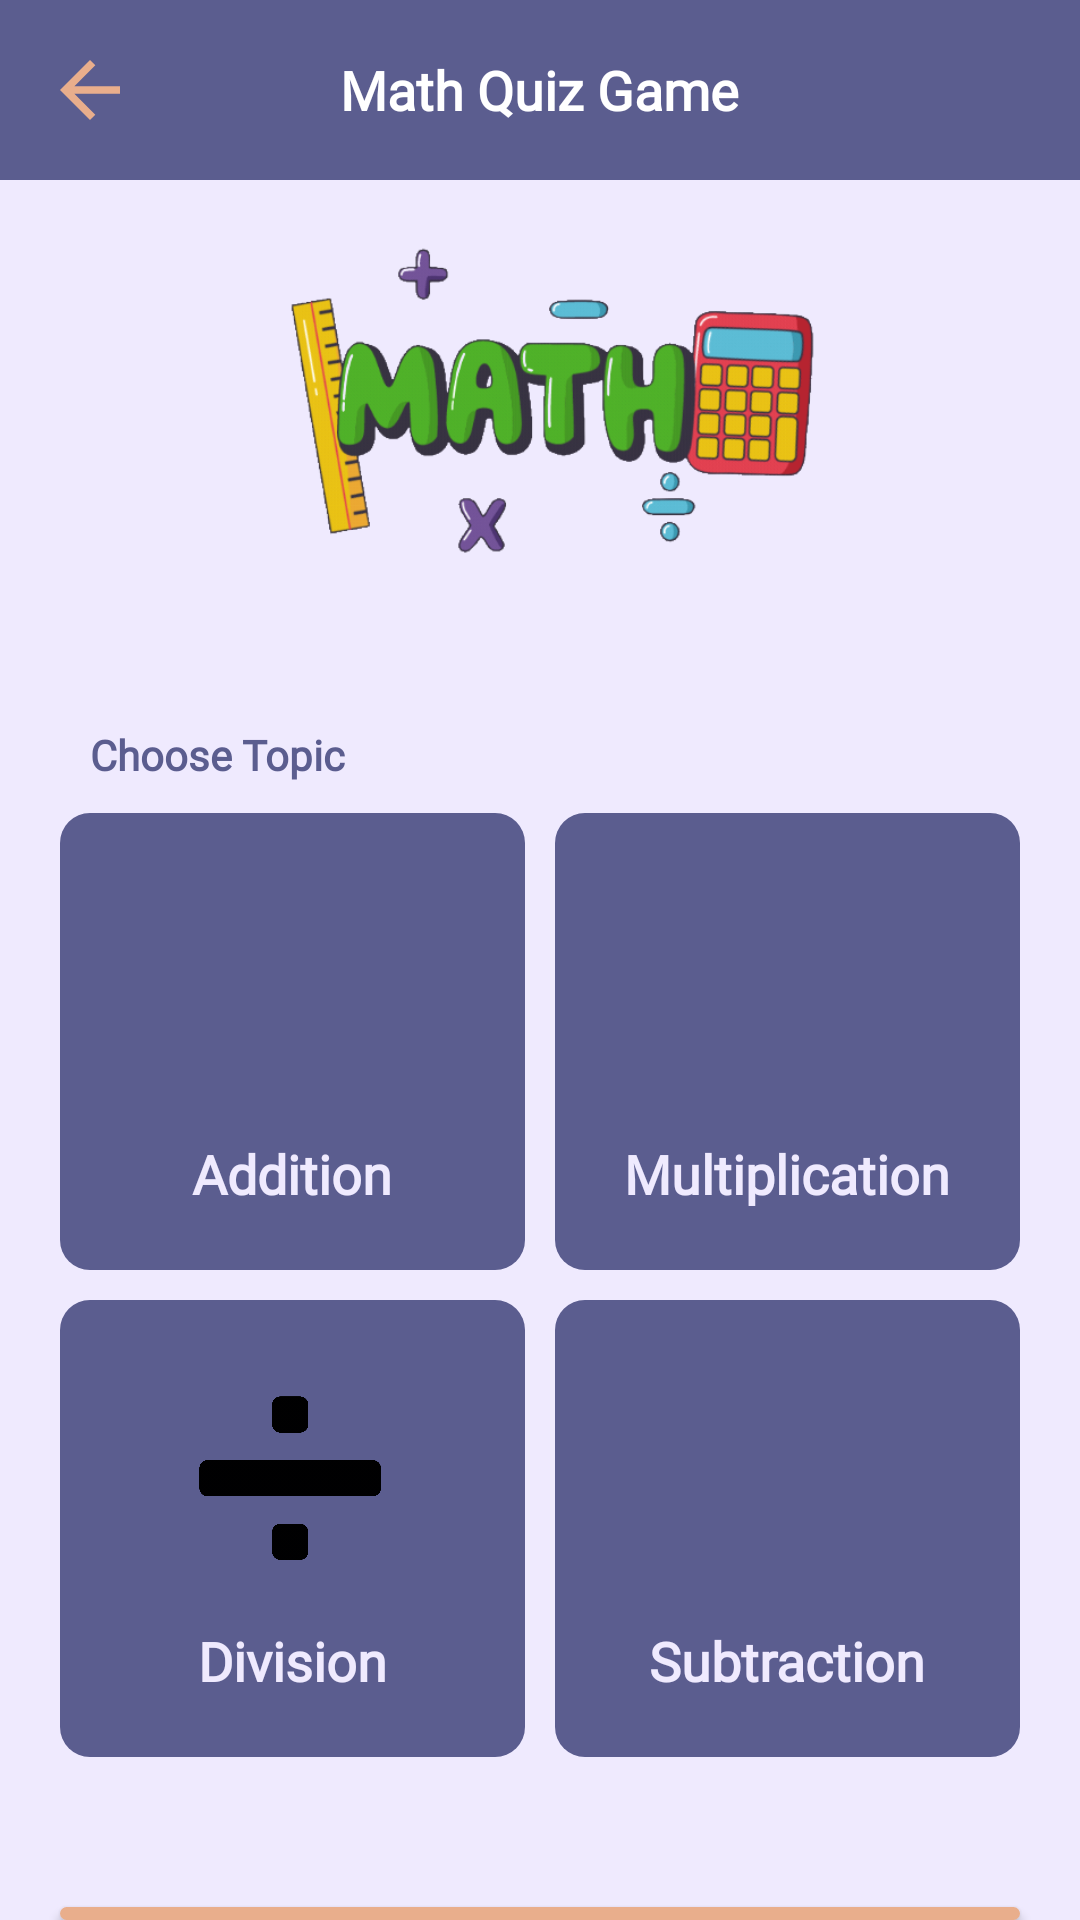

Icon click points for this 1080w x 1920h phone screenshot, format (x,y):
arrow back: (90,90)
divide: (290,1478)
